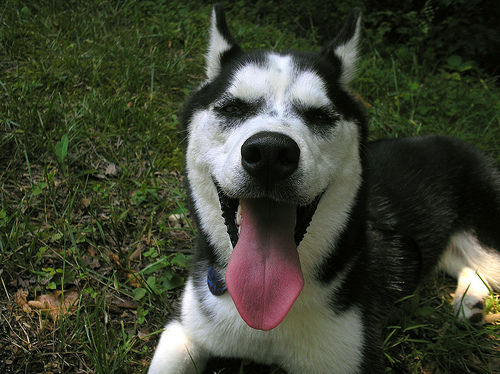dog: (147, 6, 499, 373)
